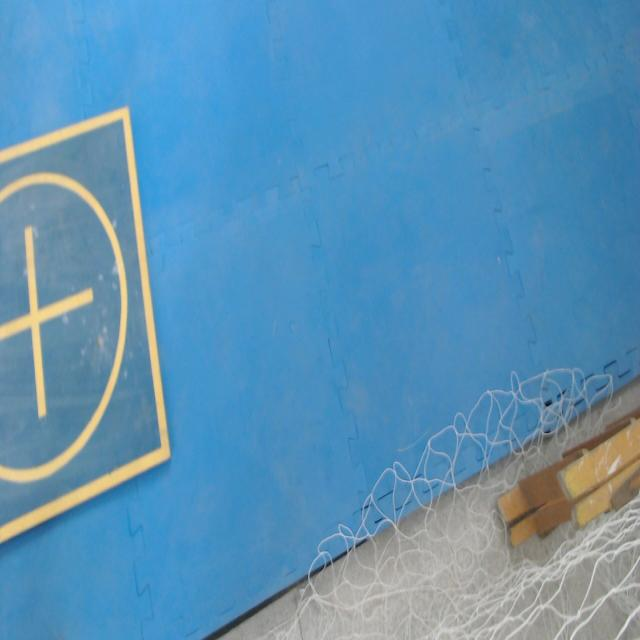base_pouso: (0, 102, 174, 547)
